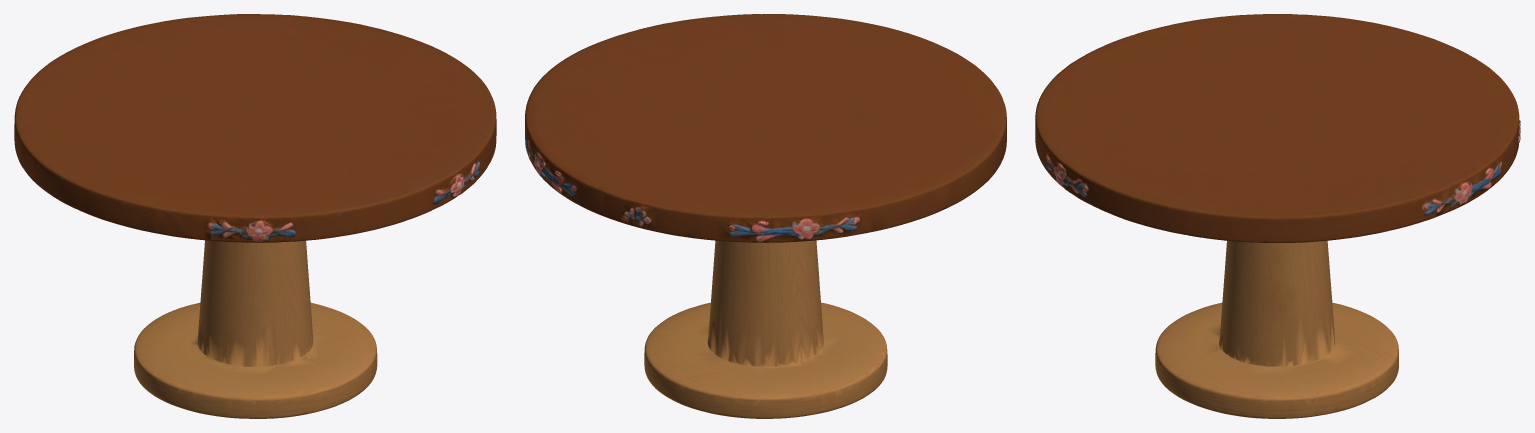
Rendered from KR_사물_s1_table_2seat_old.glb.
3 views of the same model, side by side, from view 1: azimuth 30°, elevation 25°; view 2: azimuth 150°, elevation 25°; view 3: azimuth 270°, elevation 25° (orthographic).
Parts seen in each view (by area): view 1: tripo_node_5e6b5910-ba3b-42d5-a4db-a91dda6d8315; view 2: tripo_node_5e6b5910-ba3b-42d5-a4db-a91dda6d8315; view 3: tripo_node_5e6b5910-ba3b-42d5-a4db-a91dda6d8315.
Boxes of the visible parts, box(x1,y1,x2,y2) form: tripo_node_5e6b5910-ba3b-42d5-a4db-a91dda6d8315: box(14, 14, 496, 418); tripo_node_5e6b5910-ba3b-42d5-a4db-a91dda6d8315: box(525, 14, 1006, 418); tripo_node_5e6b5910-ba3b-42d5-a4db-a91dda6d8315: box(1035, 14, 1520, 418).
Size of the model in its own units: 0.9975 by 0.5776 by 1.
Materials: 1 (1 with a texture image).
